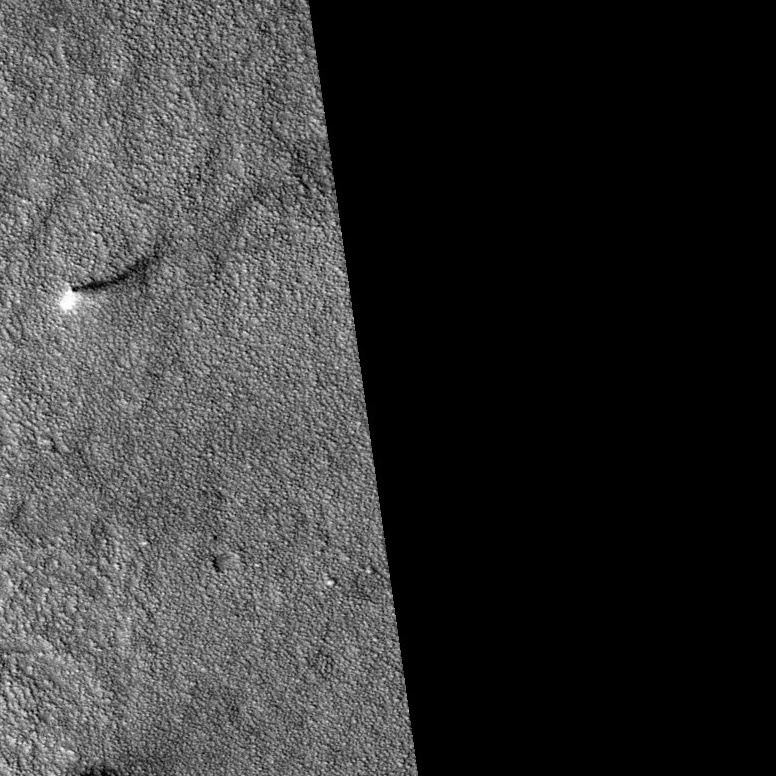dust_devil: (54, 245, 167, 316)
